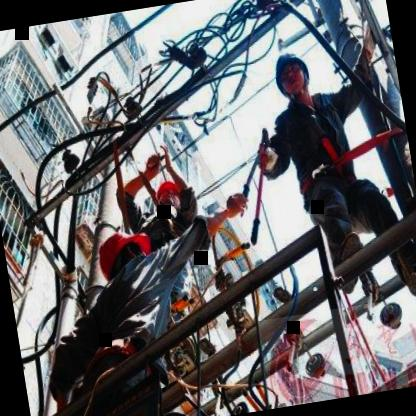helmet: (90, 223, 157, 285), (270, 43, 314, 105), (153, 176, 186, 218)
